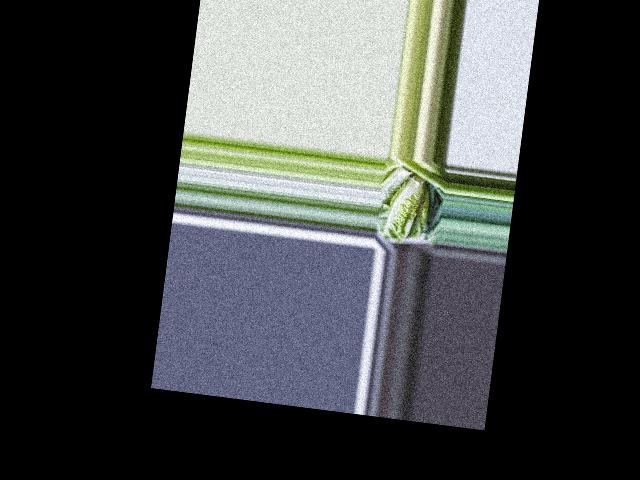lettuce: (381, 171, 433, 245)
